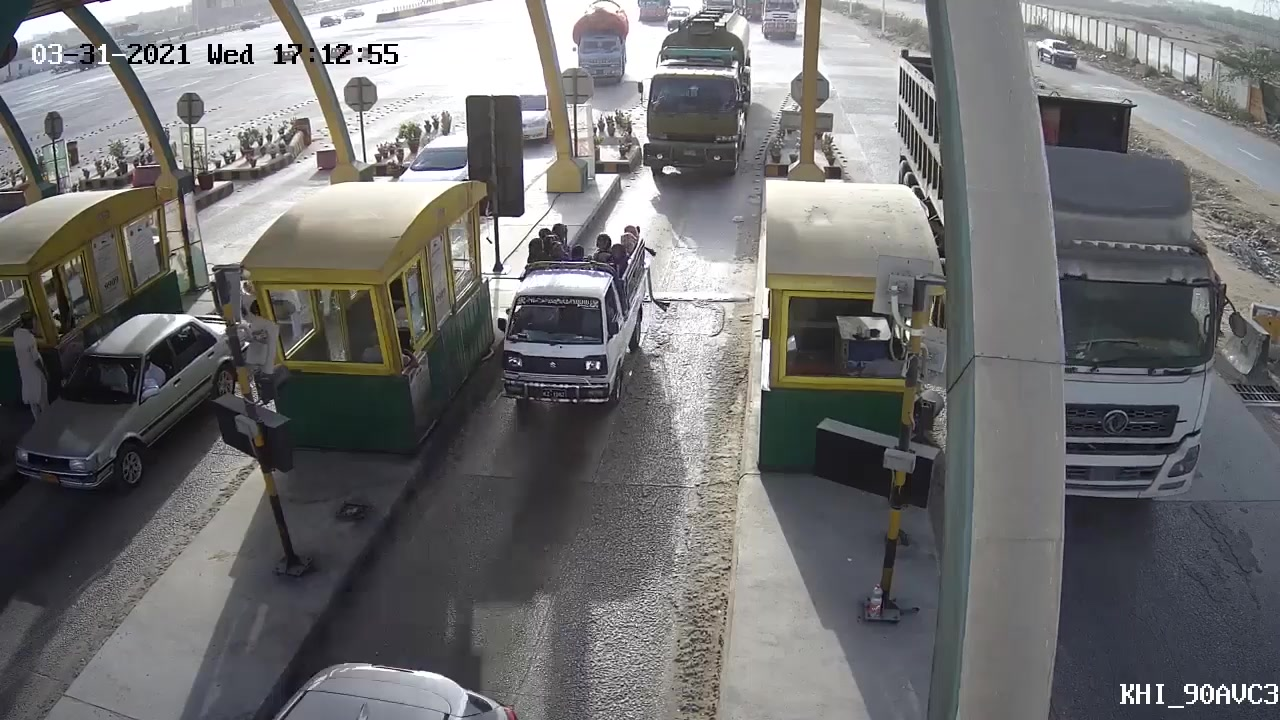F1: (476, 220, 663, 418)
F6: (634, 5, 753, 178)
